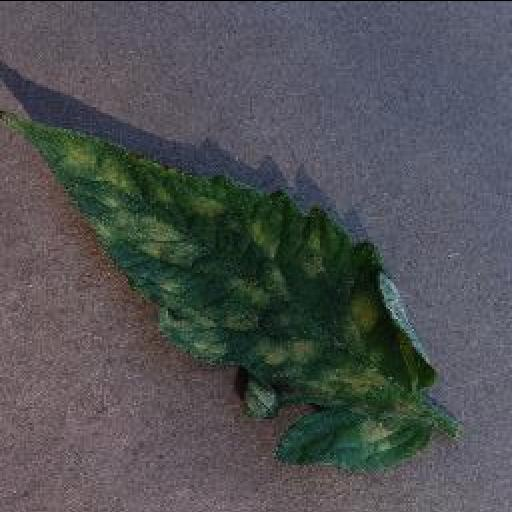disease_tomato: (4, 110, 434, 474)
